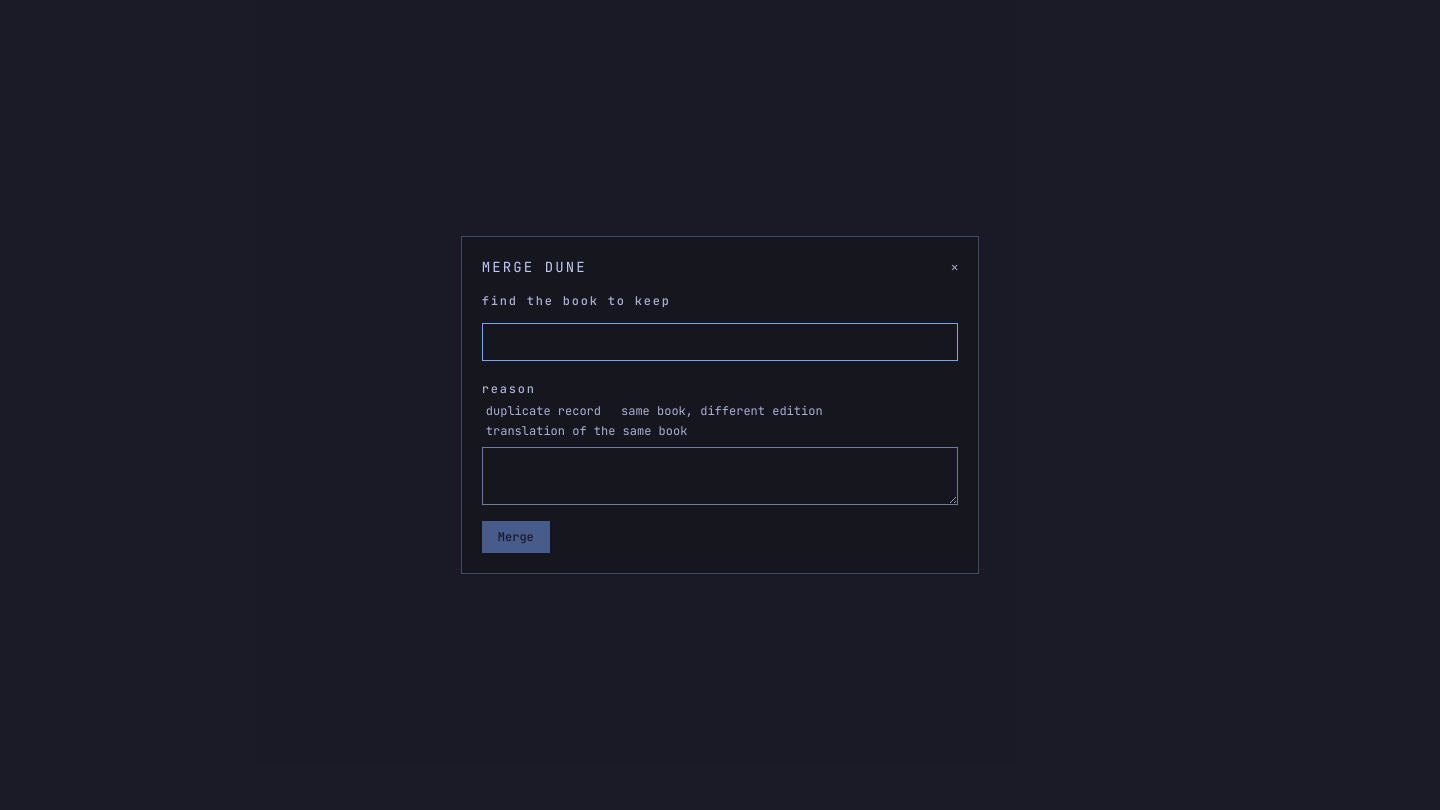
it: LibrarianPanel › picking another book resets the swap
The image size is (1440, 810).
Type "dune" into the field labelled "Find the book to keep".
click(720, 342); type("dune")  # box x1=482 y1=323 x2=958 y2=361
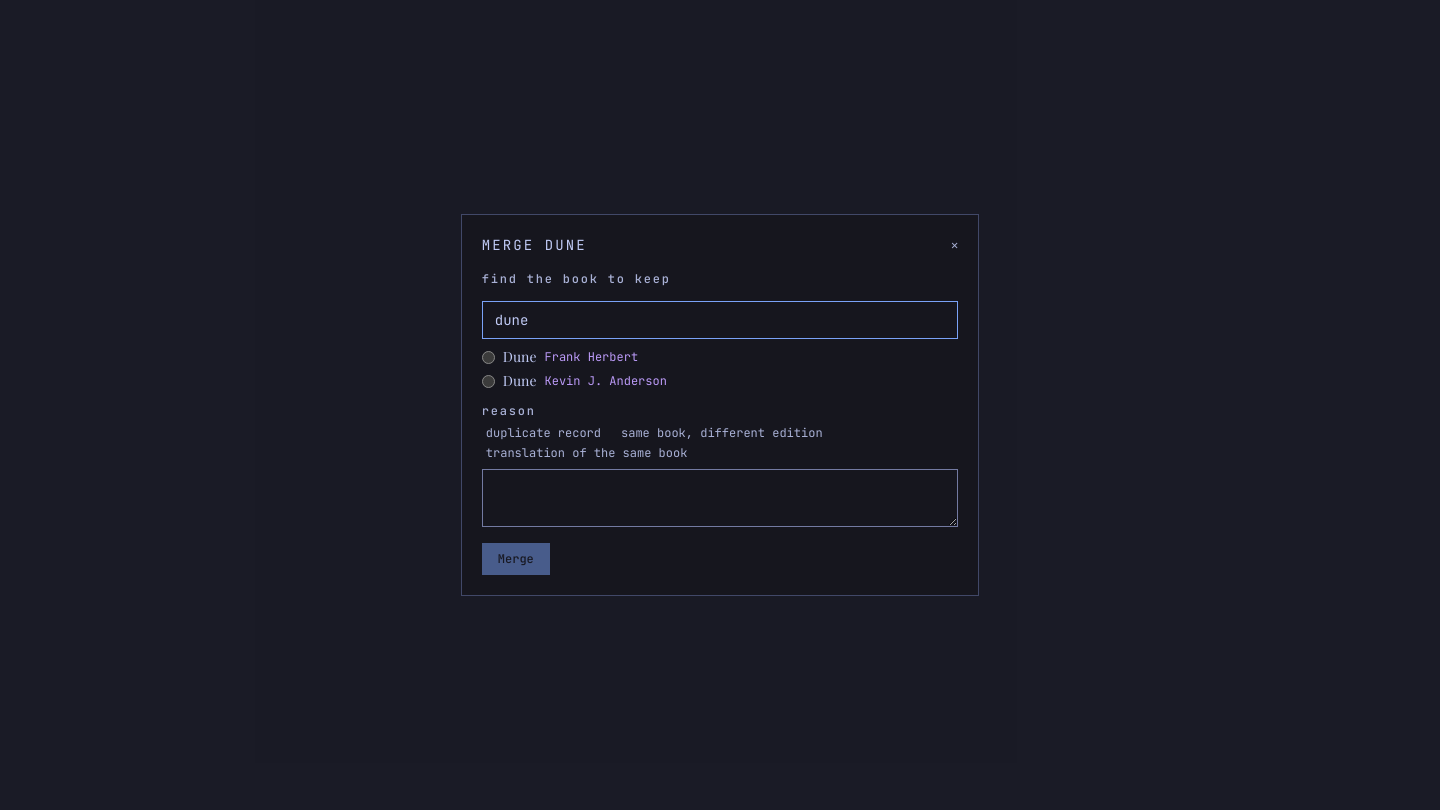
Click the radio button labelled "Dune Frank Herbert".
click(488, 357)  # box x1=482 y1=350 x2=495 y2=364
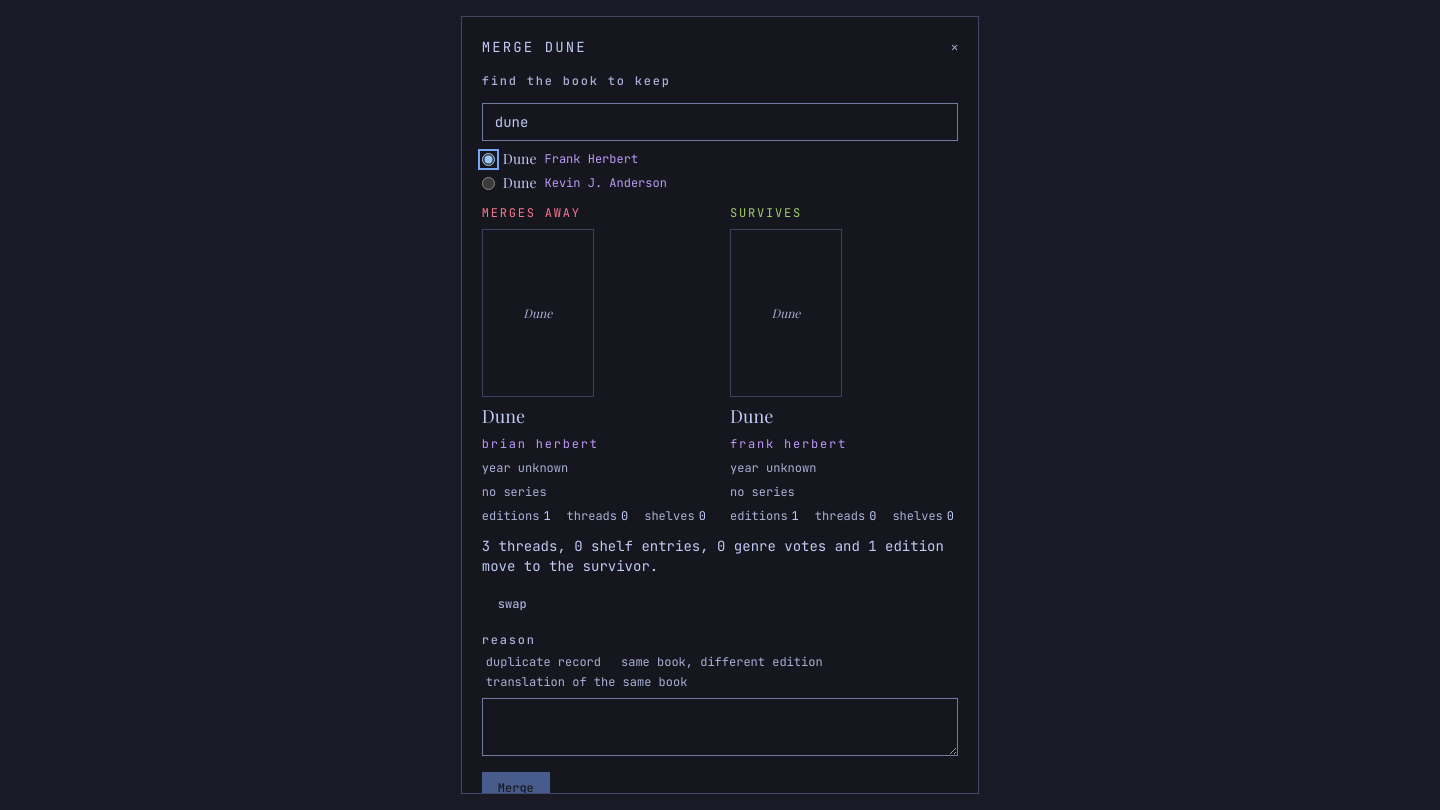
Click the button with aria-label "swap which book survives".
click(512, 604)  # box x1=482 y1=588 x2=543 y2=620
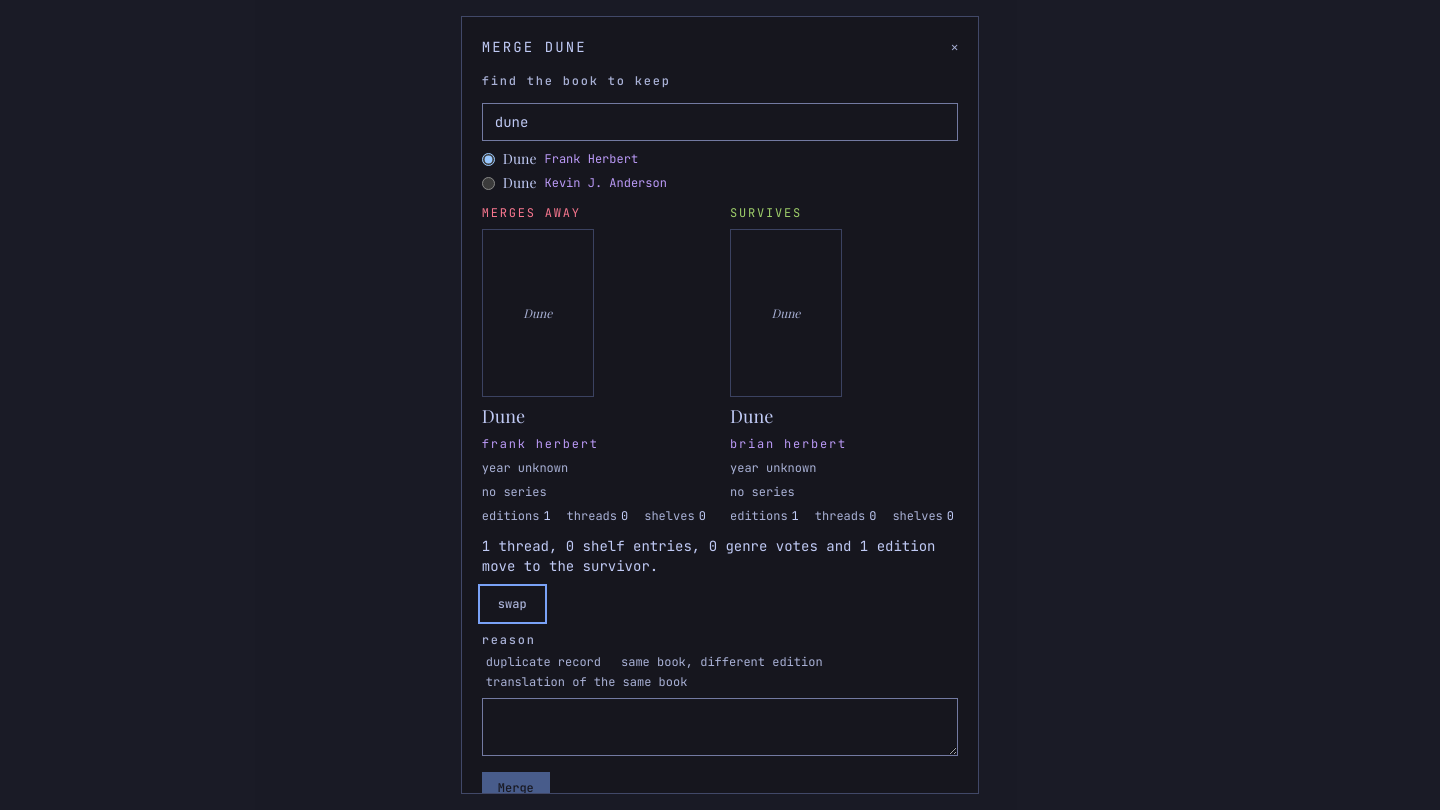
Click the radio button labelled "Dune Kevin J. Anderson".
click(488, 183)  # box x1=482 y1=176 x2=495 y2=190
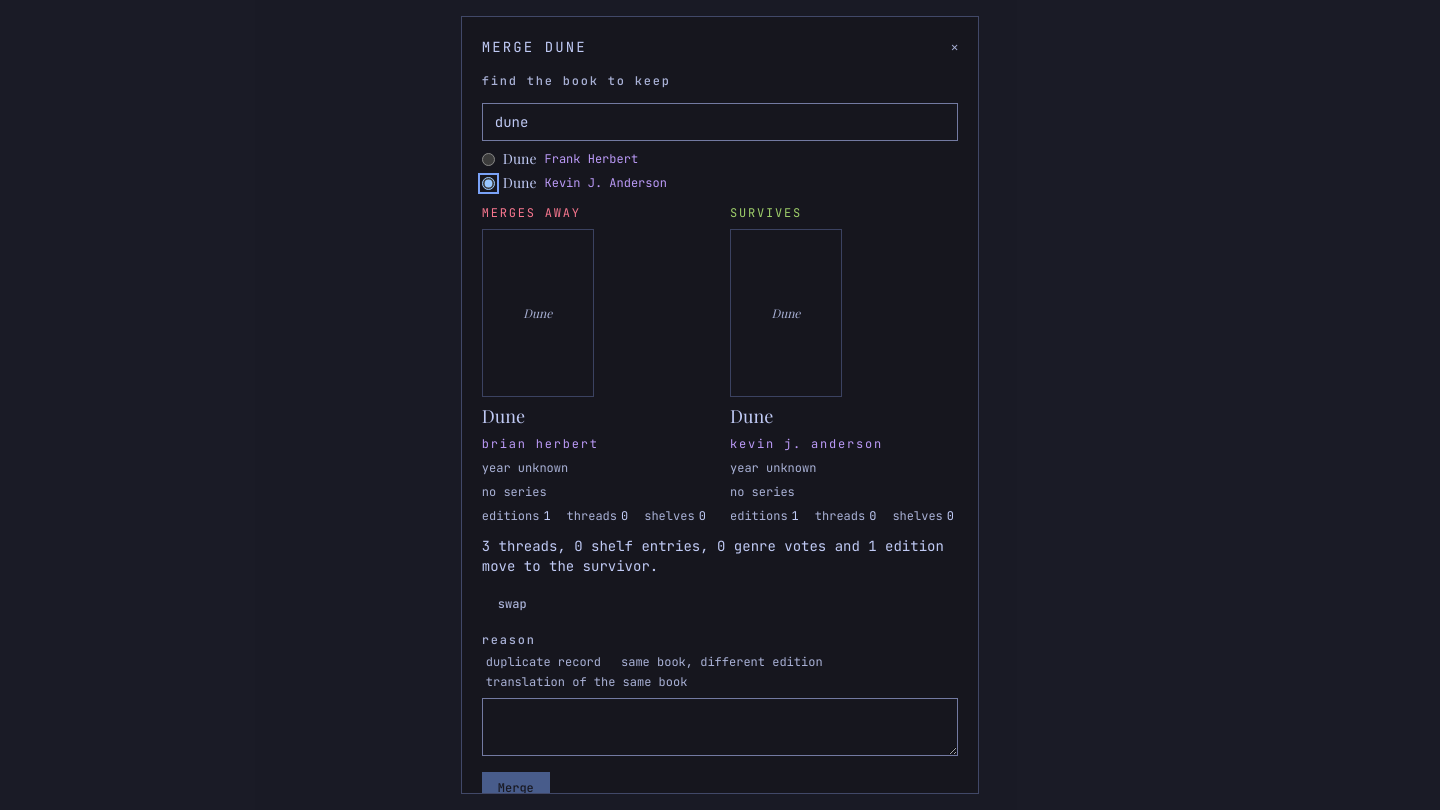
Expected: the element "survives" shows "Kevin J. Anderson", x1=730 y1=436 x2=883 y2=452
